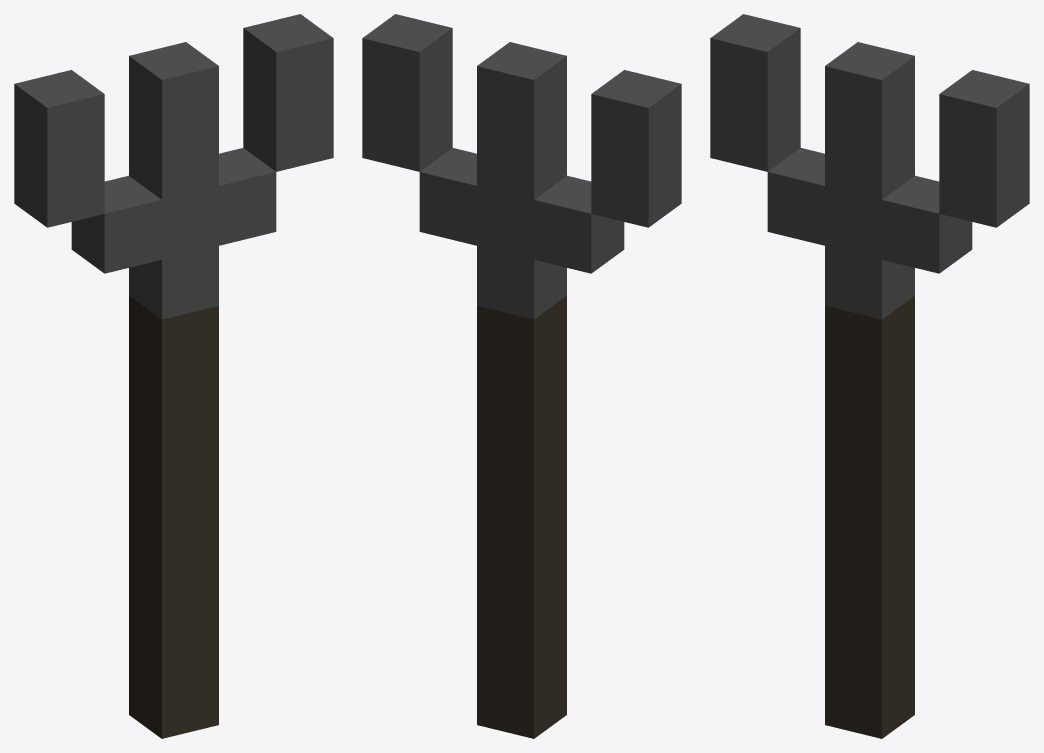
The model's file is farm-18-pitchfork.obj.
3 views of the same model, side by side, from view 1: azimuth 30°, elevation 25°; view 2: azimuth 150°, elevation 25°; view 3: azimuth 330°, elevation 25° (orthographic).
Parts seen in each view (by area): view 1: pitchfork; view 2: pitchfork; view 3: pitchfork.
Part boxes in pixels (x1,y1,x2,y2): pitchfork: (14,14,333,738); pitchfork: (362,14,681,738); pitchfork: (710,14,1029,738).
Bounding box in the file's own units: 0.5 × 1.1 × 0.1.
1 material, 1 textured.
